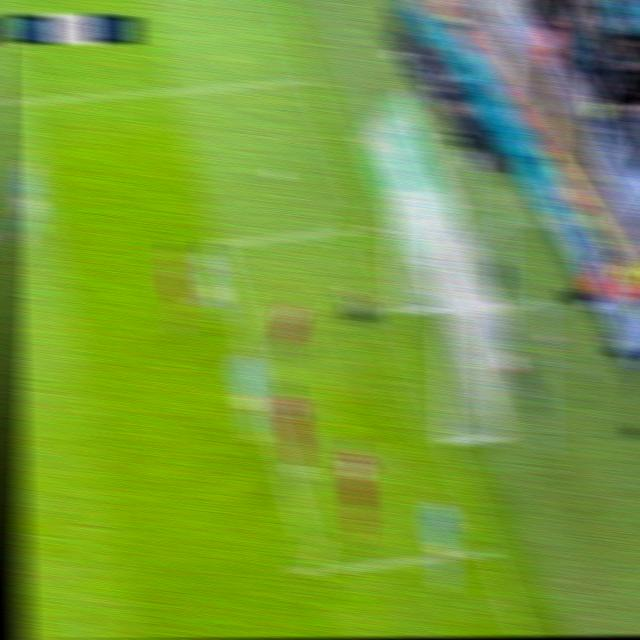bigarea_top_outter: (287, 51, 331, 106)
smallarea_bottom_inner: (289, 538, 341, 604)
smallarea_bottom_outter: (465, 518, 515, 582)
smallarea_top_inner: (201, 220, 238, 270)
smallarea_top_outter: (345, 207, 390, 251)
